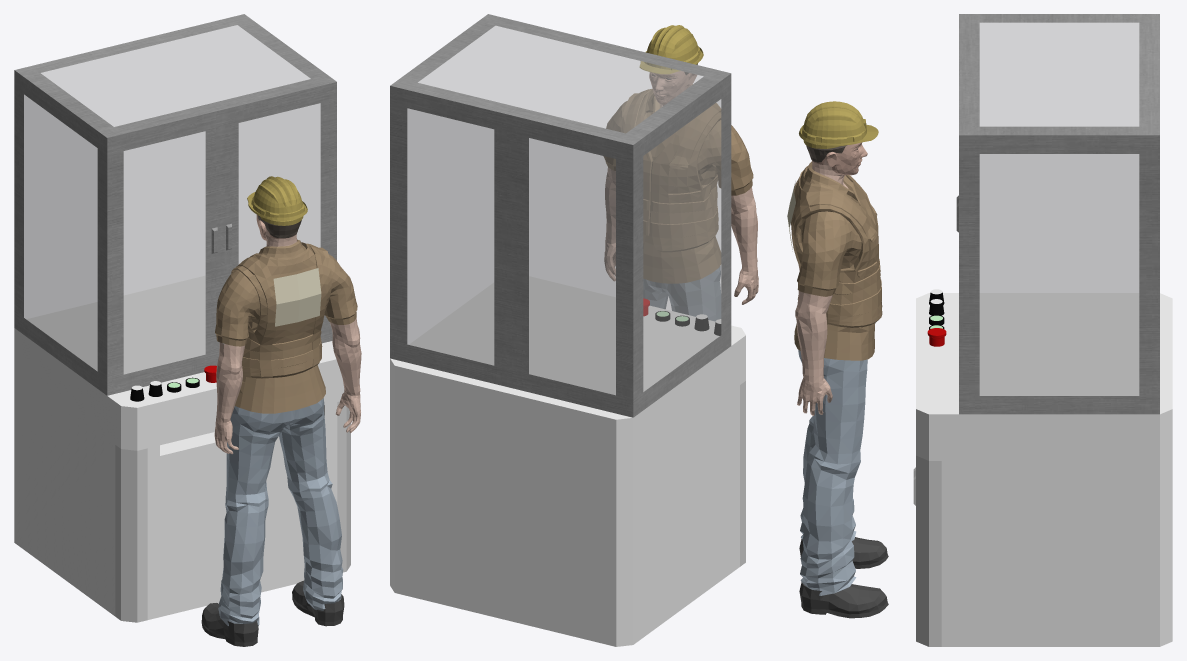
Rendered from input.glb.
3 views of the same model, side by side, from view 1: azimuth 30°, elevation 25°; view 2: azimuth 150°, elevation 25°; view 3: azimuth 270°, elevation 25° (orthographic). The views are drawn at different scales.
Visible parts, largest first — view 1: Barcode Marking, Model:4; view 2: Barcode Marking, Model:4; view 3: Barcode Marking, Model:4.
Part boxes in pixels (box(x1,y1,x2,y2)): Barcode Marking: box(14, 14, 350, 622); Model:4: box(201, 176, 361, 646); Barcode Marking: box(390, 14, 745, 646); Model:4: box(603, 25, 758, 321); Barcode Marking: box(913, 14, 1172, 646); Model:4: box(787, 101, 888, 618).
Size of the model in its own units: 1.12 by 2.2 by 1.5.
16 materials, 1 textured.
